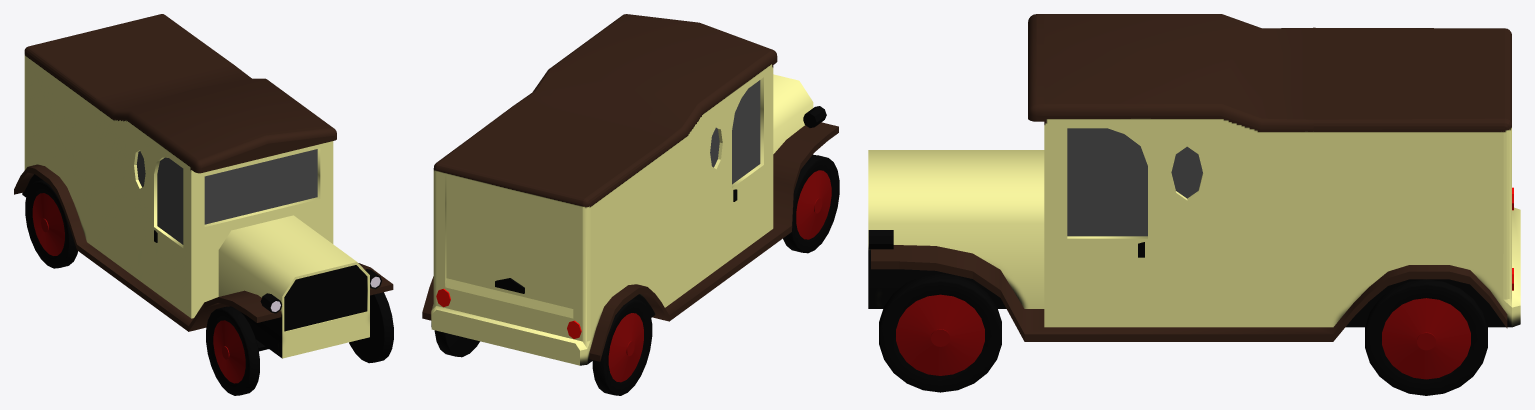
File: TESTCAR.fbx
The picture shows the model from 3 angles, left to right: view 1: azimuth 30°, elevation 25°; view 2: azimuth 150°, elevation 25°; view 3: azimuth 270°, elevation 25°; orthographic projection. The views are drawn at different scales.
Visible parts, largest first — view 1: CHASSIS, WHEELSFR, WHEELSRR, WHEELSFL; view 2: CHASSIS, DOORL, DOORR, WHEELSRR, WHEELSFR, WHEELSRL, LIGHT; view 3: CHASSIS, WHEELSFL, WHEELSRL.
Boxes of the visible parts, left/top/right/bottom form: CHASSIS: left=14, top=14, right=393, bottom=358; WHEELSFR: left=206, top=306, right=259, bottom=395; WHEELSRR: left=25, top=180, right=77, bottom=268; WHEELSFL: left=349, top=292, right=393, bottom=363; CHASSIS: left=422, top=14, right=838, bottom=365; DOORL: left=446, top=175, right=510, bottom=293; DOORR: left=509, top=190, right=573, bottom=308; WHEELSRR: left=592, top=299, right=652, bottom=395; WHEELSFR: left=783, top=155, right=839, bottom=253; WHEELSRL: left=434, top=330, right=479, bottom=357; LIGHT: left=436, top=288, right=581, bottom=338; CHASSIS: left=868, top=14, right=1520, bottom=341; WHEELSFL: left=879, top=273, right=1001, bottom=392; WHEELSRL: left=1365, top=279, right=1487, bottom=395.
Size of the model in its own units: 131 by 166 by 331.
